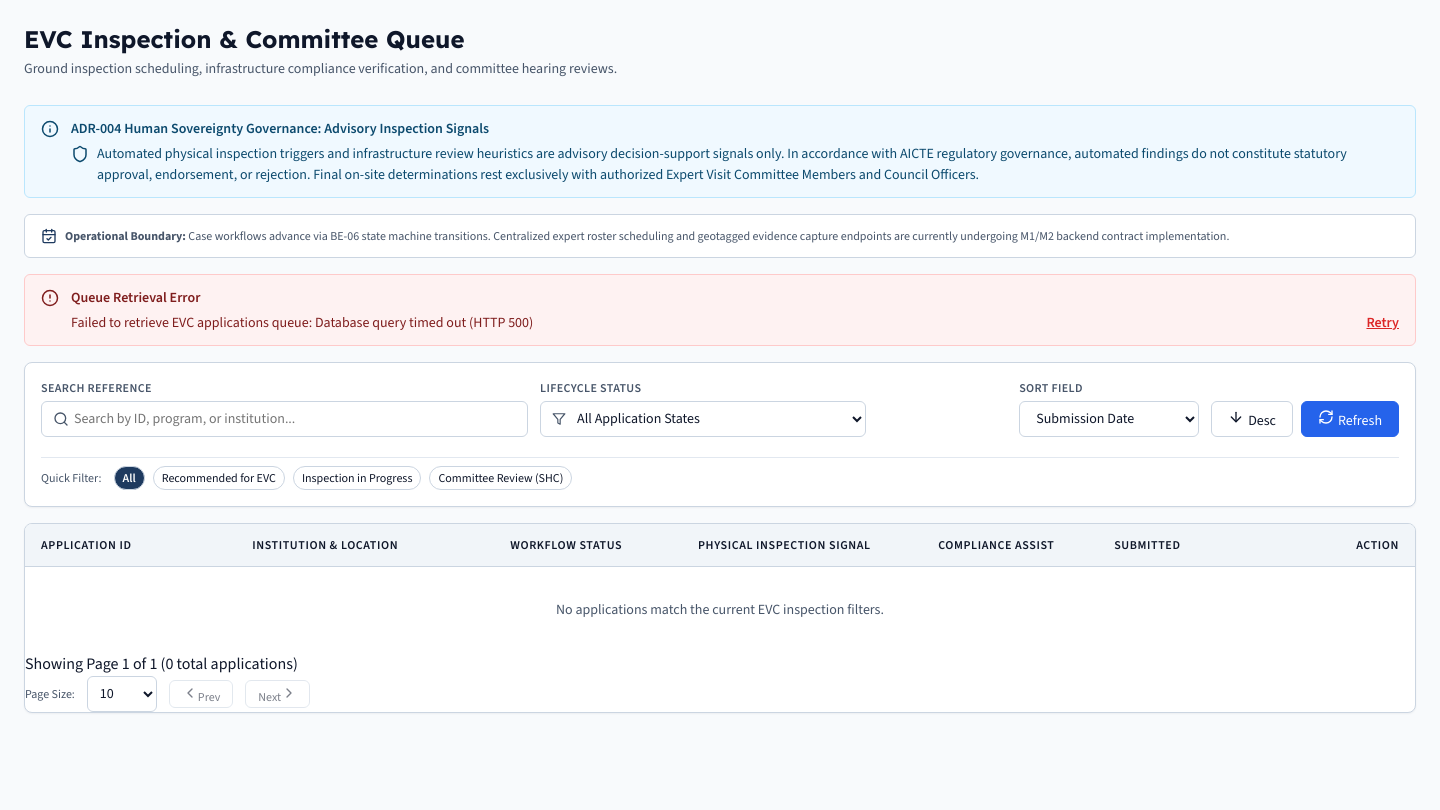
EVC Queue & Application Selection (FE-06) › handles server error and provides accessible retry button
Expected: the text "Queue Retrieval Error" is shown, left=71, top=288, right=200, bottom=307
Expected: the text "Database query timed out" is shown, left=71, top=313, right=533, bottom=332
Click the button "Retry".
click(1383, 322)  # box left=1366, top=312, right=1399, bottom=333
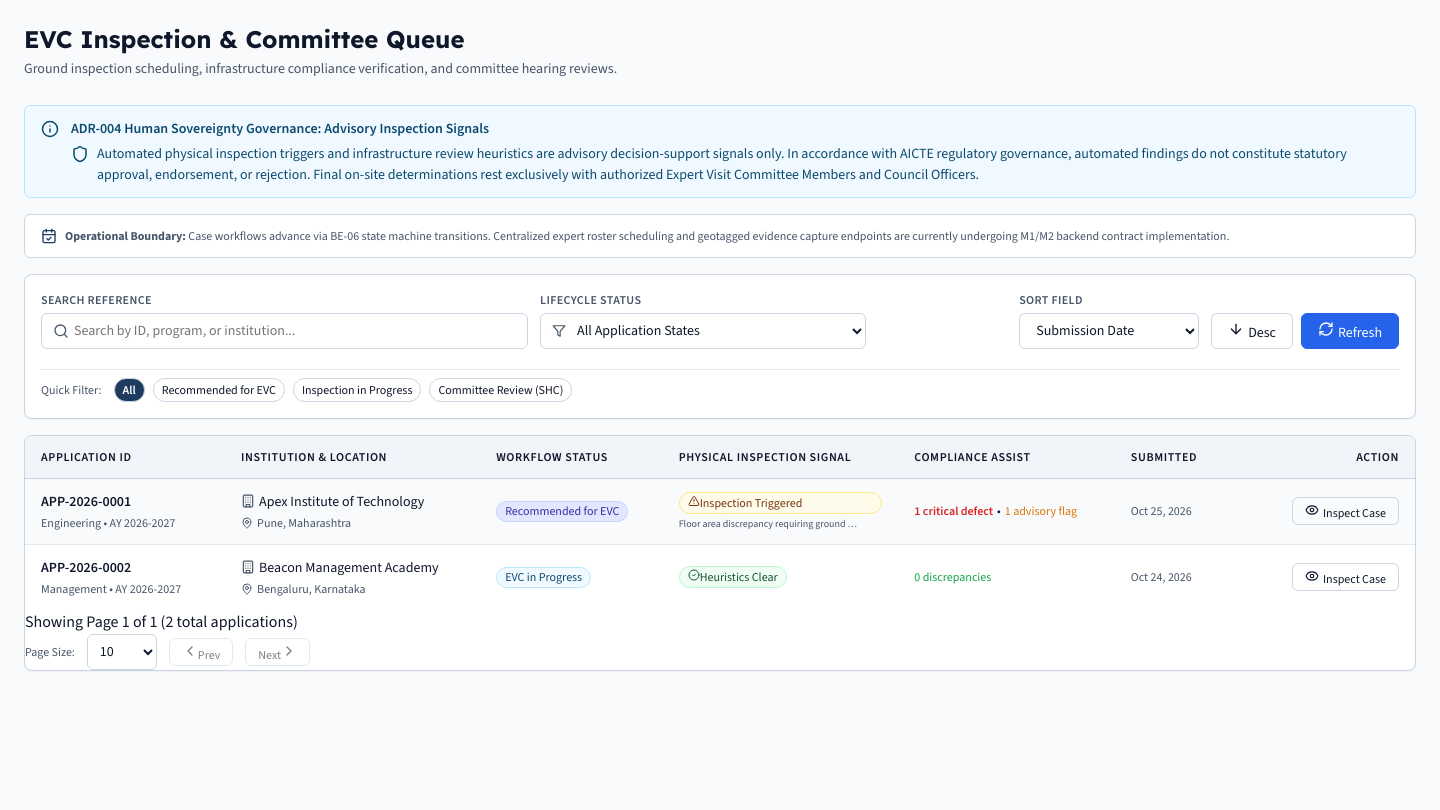
Expected: the text "APP-2026-0001" is shown, left=41, top=492, right=131, bottom=511
